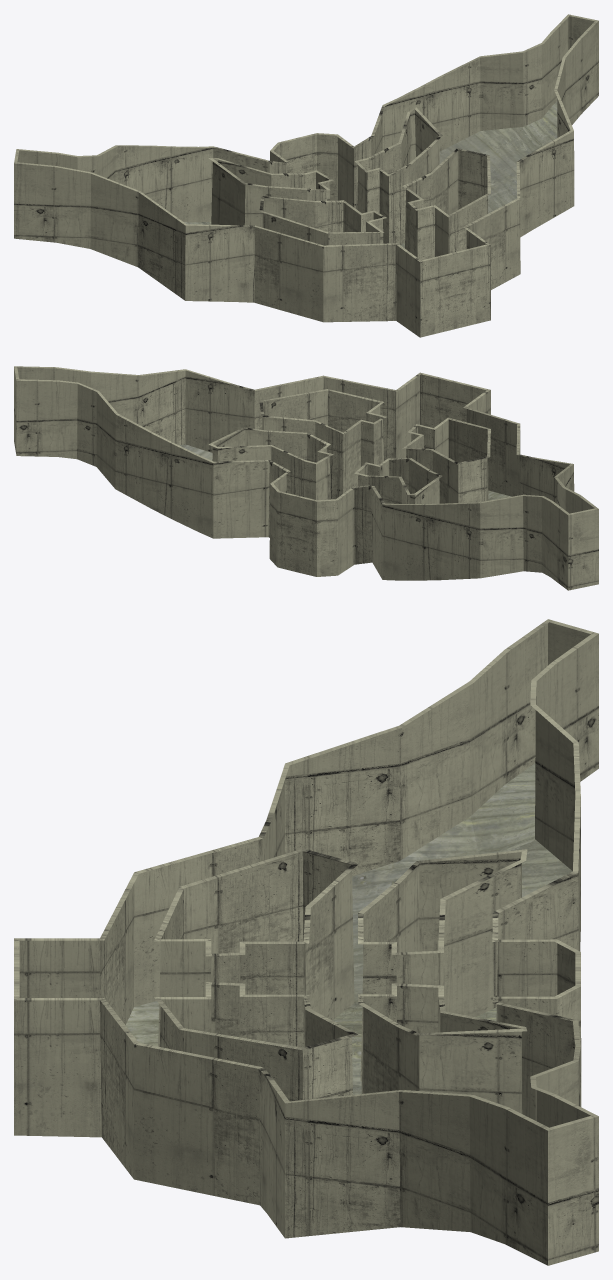
File: SM_NeoLD_09_Block_01.fbx
The picture shows the model from 3 angles, top to bottom: view 1: azimuth 30°, elevation 25°; view 2: azimuth 150°, elevation 25°; view 3: azimuth 270°, elevation 25°; orthographic projection. The views are drawn at different scales.
Parts seen in each view (by area): view 1: SM_NeoLD_09_Block_01; view 2: SM_NeoLD_09_Block_01; view 3: SM_NeoLD_09_Block_01.
Boxes of the visible parts, x1,y1,x2,y2 form: SM_NeoLD_09_Block_01: (14, 14, 598, 337); SM_NeoLD_09_Block_01: (14, 366, 598, 590); SM_NeoLD_09_Block_01: (14, 619, 598, 1265).
Bounding box in the file's own units: 6012 × 1289 × 2904.
